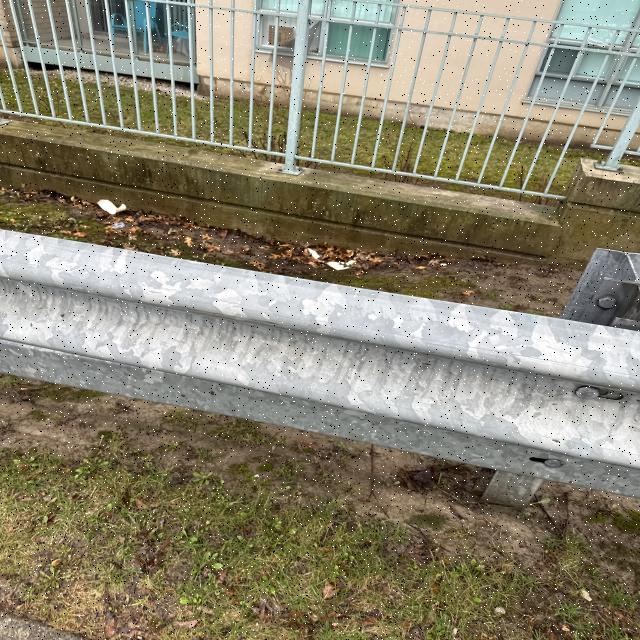Guard rail: (4, 241, 615, 475)
